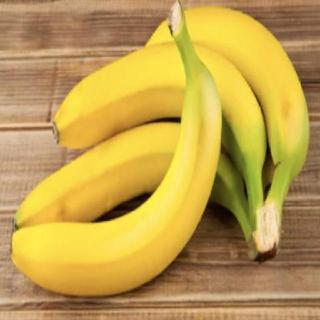banana: (10, 77, 222, 299), (135, 4, 312, 172), (51, 40, 269, 173), (13, 119, 244, 240)
